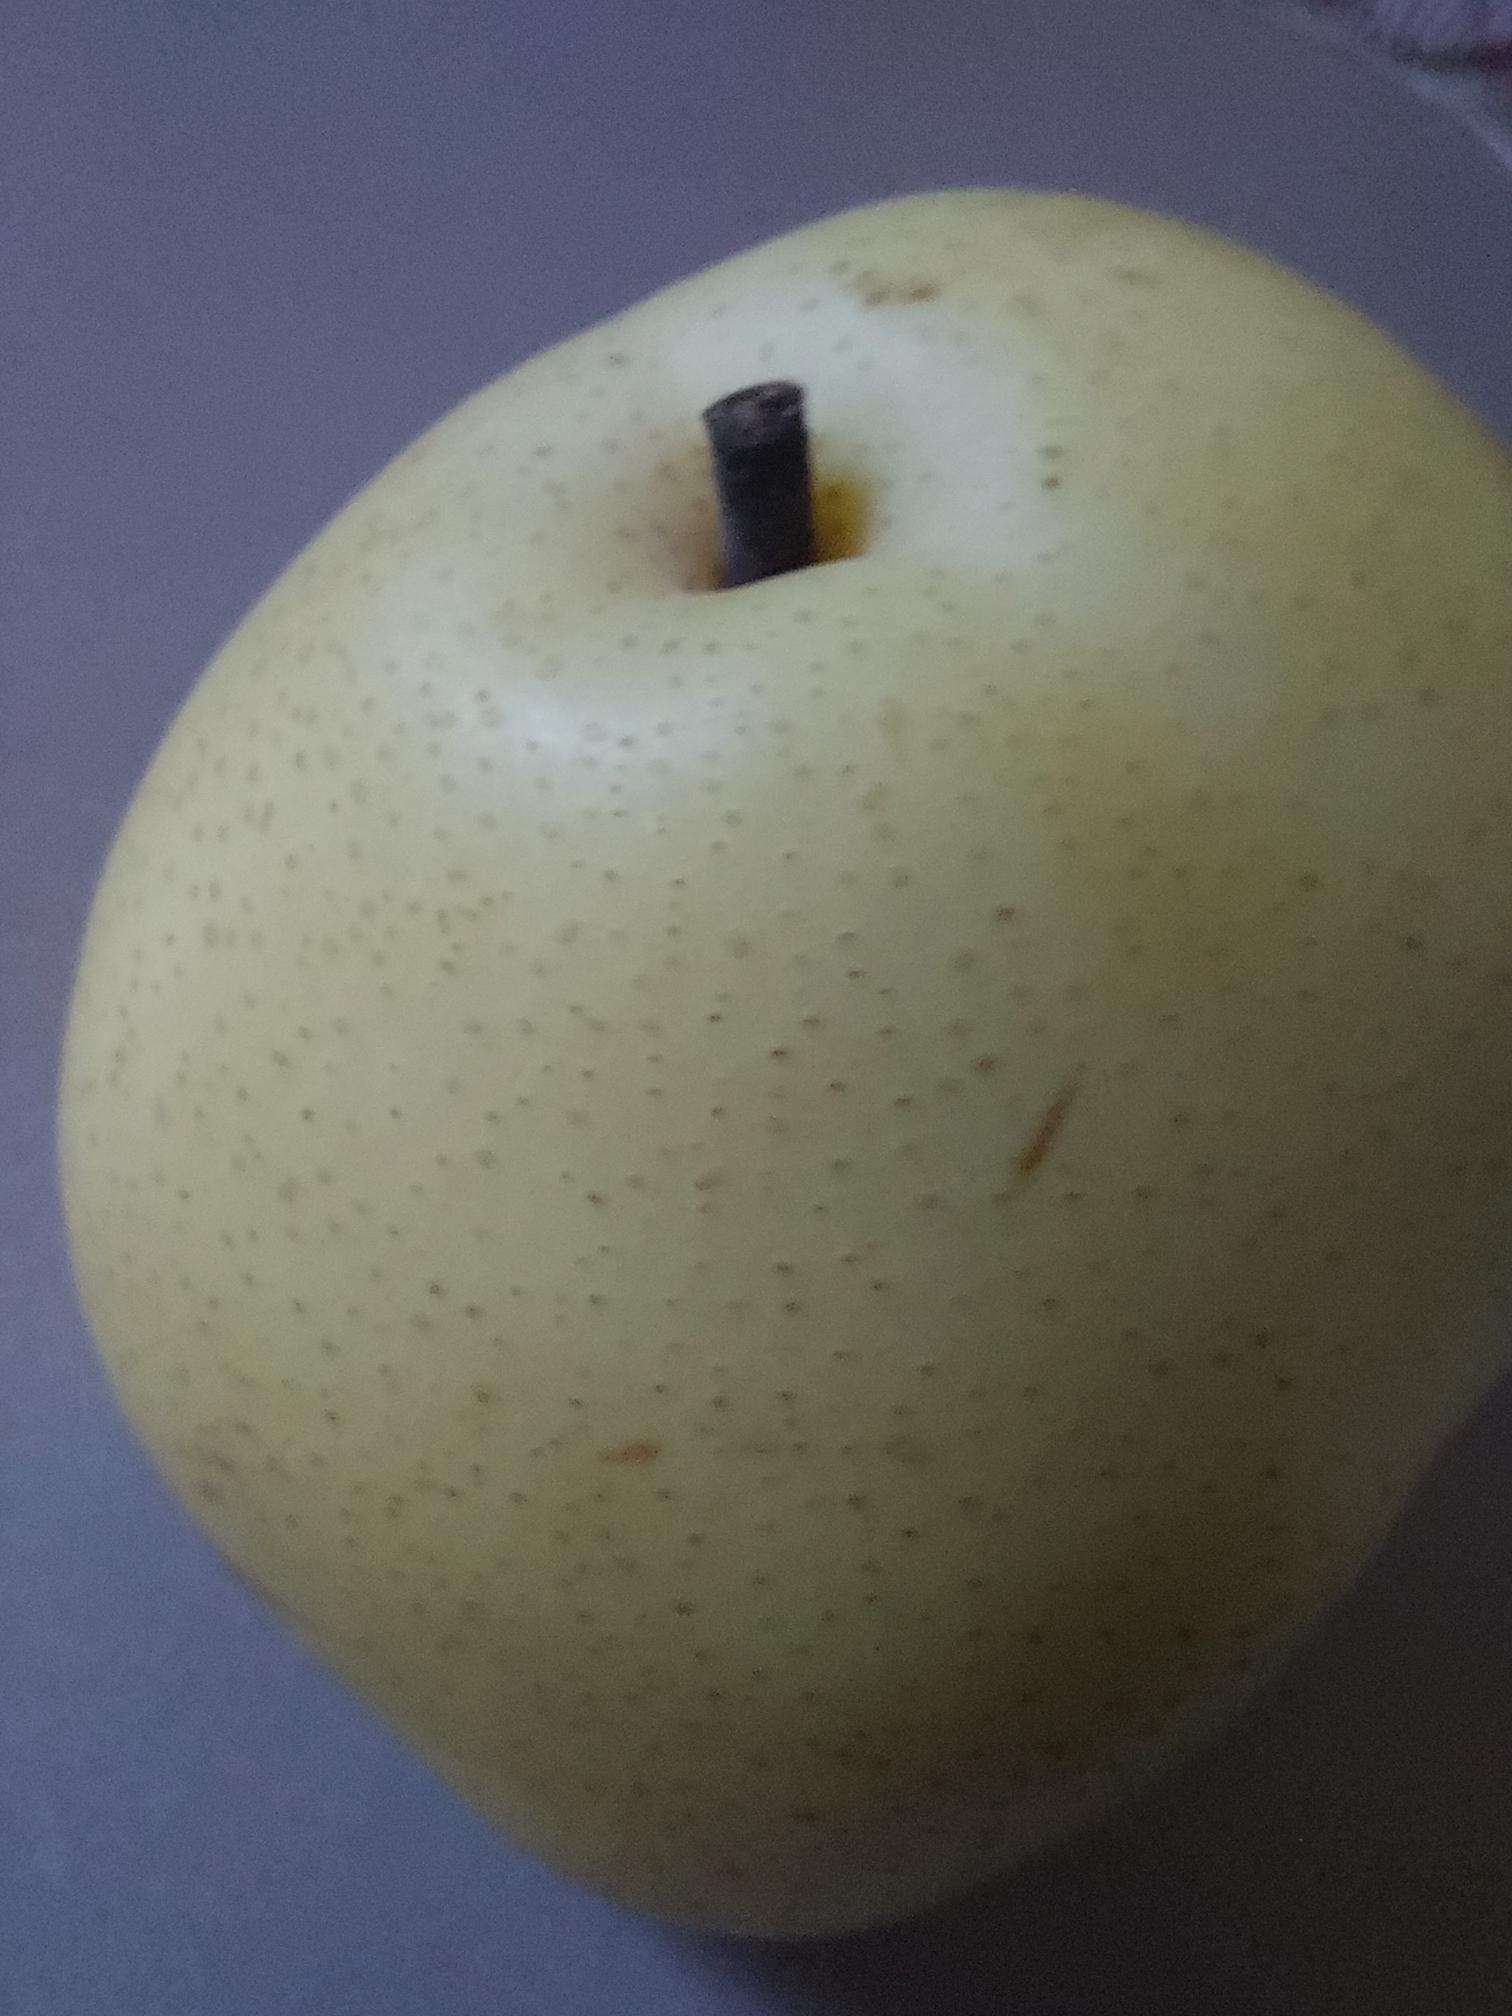Good Pear: (51, 173, 1512, 1964)
